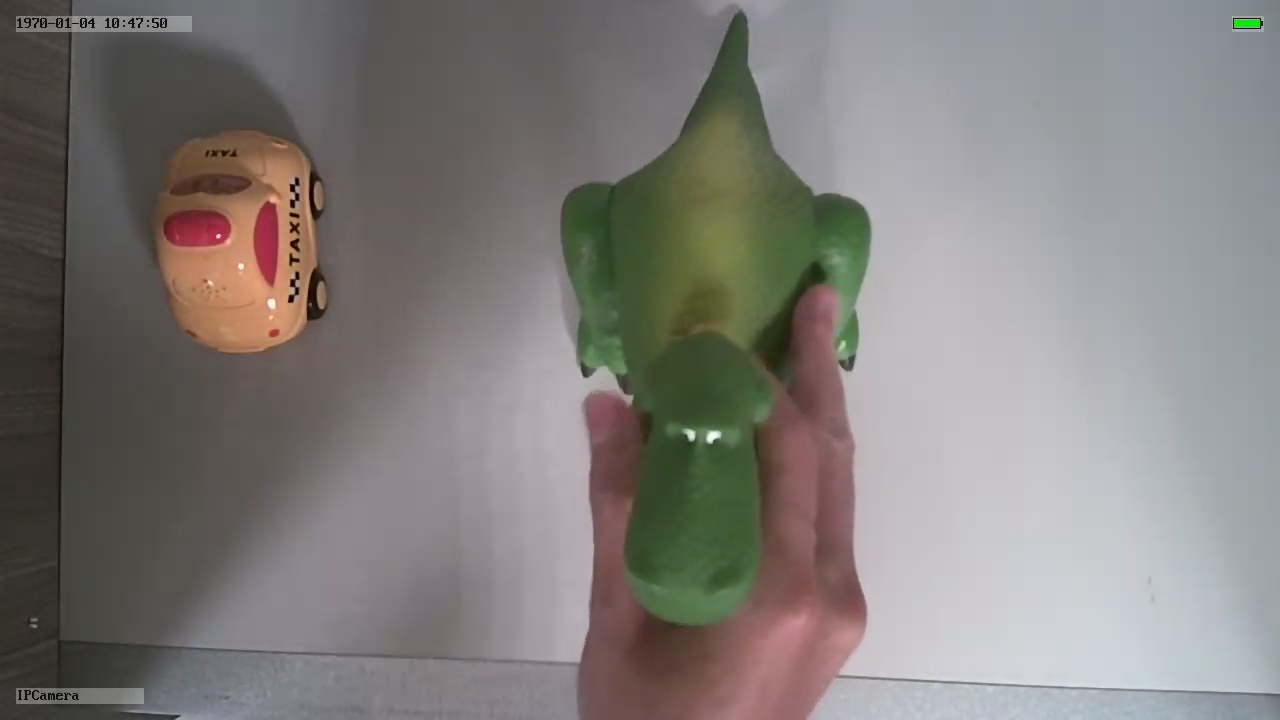car: (152, 126, 331, 360)
